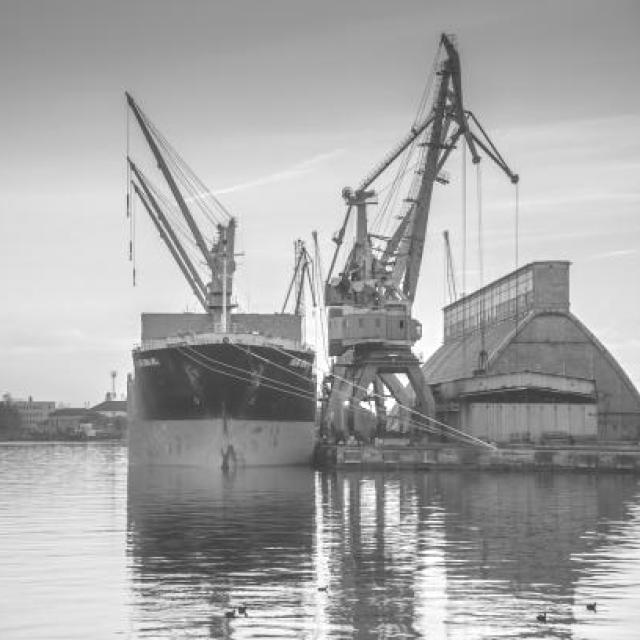ship: (120, 88, 318, 470)
